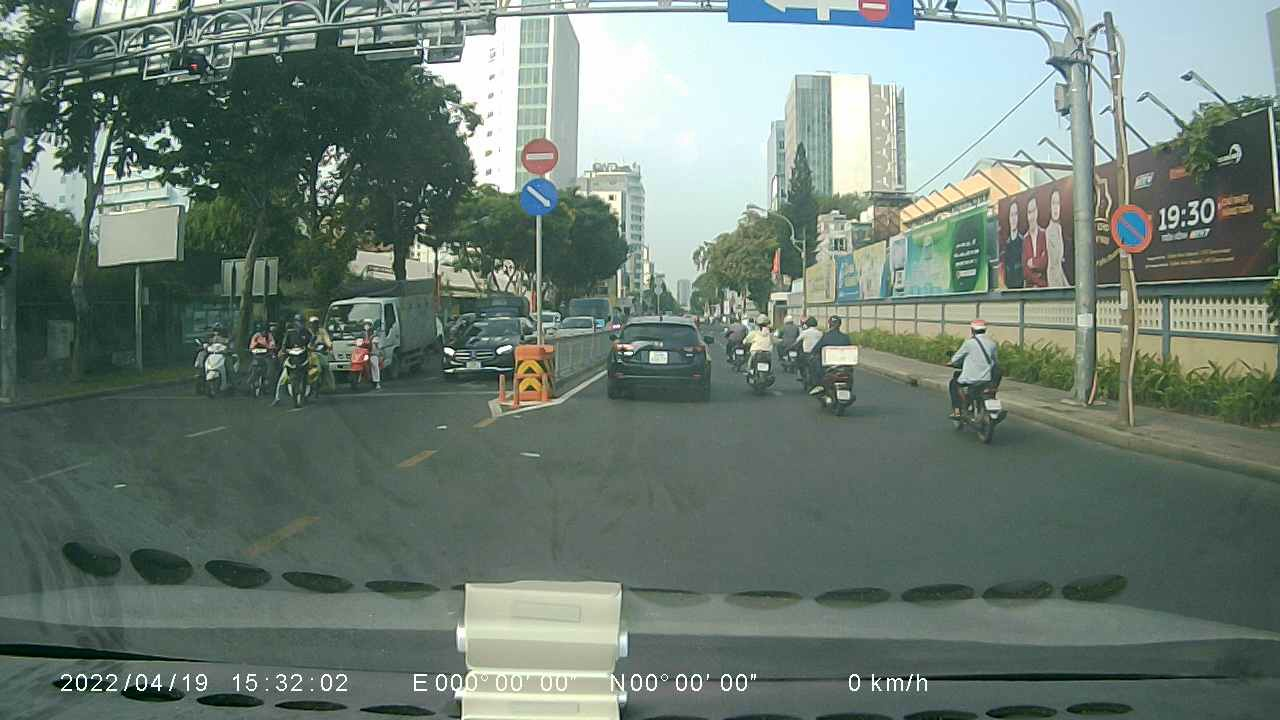Cam di nguoc chieu: (517, 134, 562, 178)
Cam do xe: (1108, 196, 1152, 255)
Huong di phai re phai: (515, 176, 558, 217)
